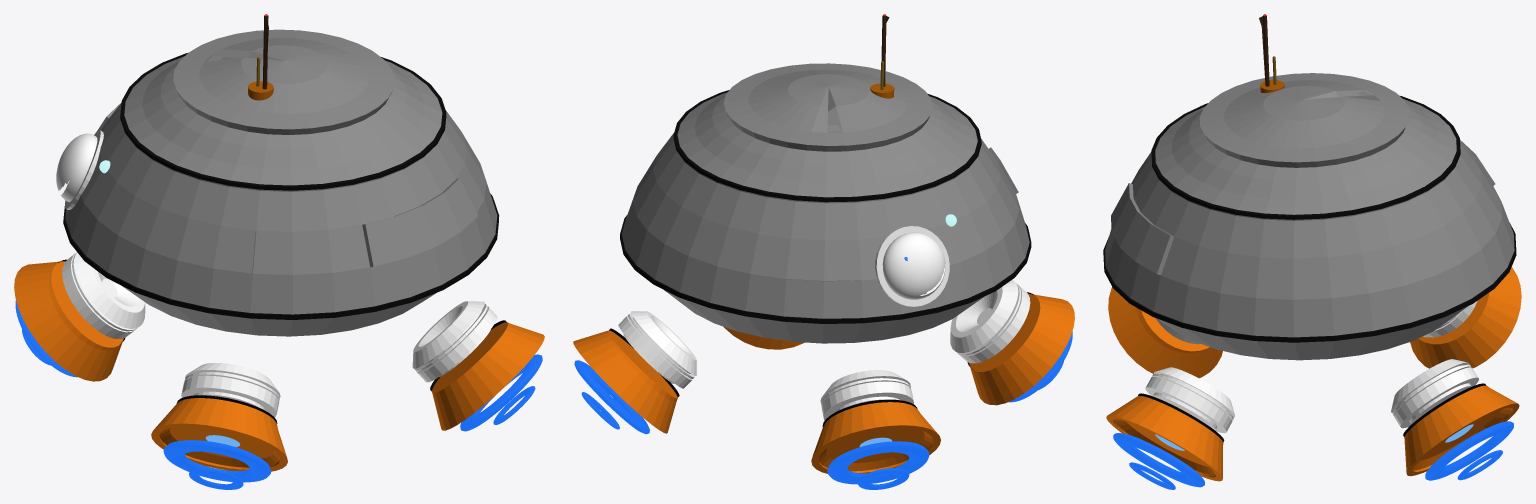
The model's file is robot.glb.
The picture shows the model from 3 angles, left to right: view 1: azimuth 30°, elevation 25°; view 2: azimuth 150°, elevation 25°; view 3: azimuth 270°, elevation 25°; orthographic projection. The views are drawn at different scales.
Visible parts, largest first — view 1: 円柱.003, feet; view 2: 円柱.003, feet; view 3: 円柱.003, feet.
Boxes of the visible parts, bbox=[...] form: 円柱.003: bbox=[56, 14, 499, 336]; feet: bbox=[14, 252, 544, 489]; 円柱.003: bbox=[620, 14, 1031, 343]; feet: bbox=[573, 280, 1074, 489]; 円柱.003: bbox=[1103, 14, 1516, 360]; feet: bbox=[1106, 267, 1521, 489].
Bounding box in the file's own units: 1.98 × 2.08 × 1.99.
